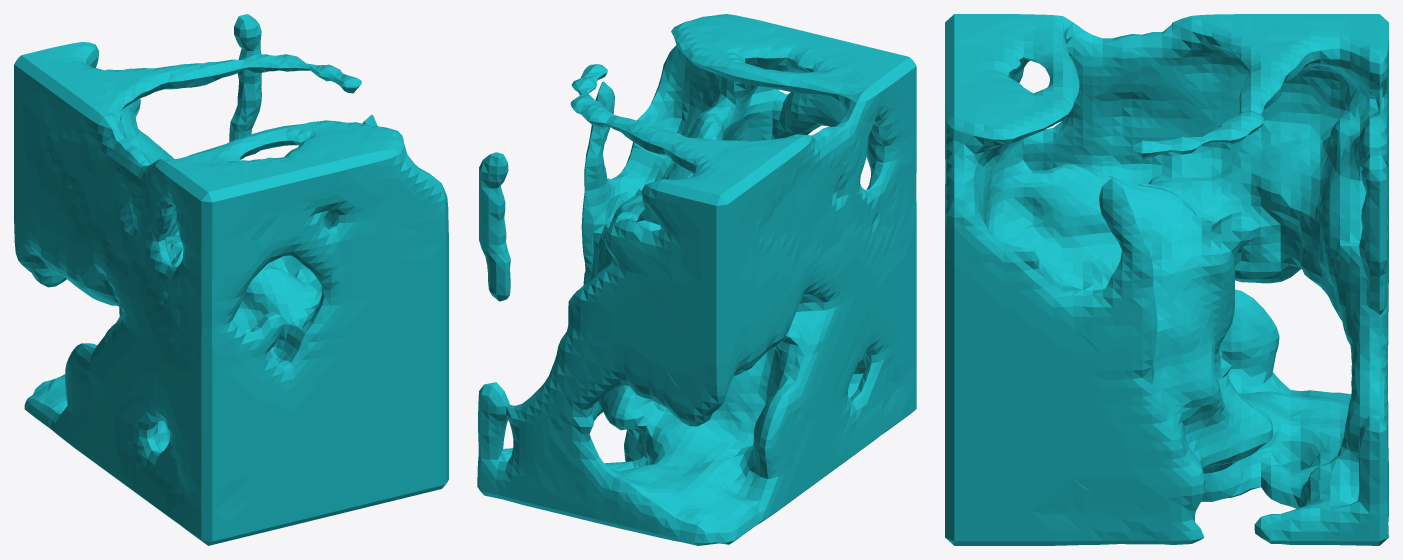
The picture shows the model from 3 angles, left to right: view 1: azimuth 30°, elevation 25°; view 2: azimuth 150°, elevation 25°; view 3: azimuth 270°, elevation 25°; orthographic projection. The views are drawn at different scales.
Visible parts, largest first — view 1: Liquid_Domain; view 2: Liquid_Domain; view 3: Liquid_Domain.
Part boxes in pixels (bbox=[...]): Liquid_Domain: bbox=[14, 14, 448, 545]; Liquid_Domain: bbox=[477, 14, 916, 545]; Liquid_Domain: bbox=[945, 14, 1388, 545].
Bounding box in the file's own units: 79.12 × 108 × 108.
